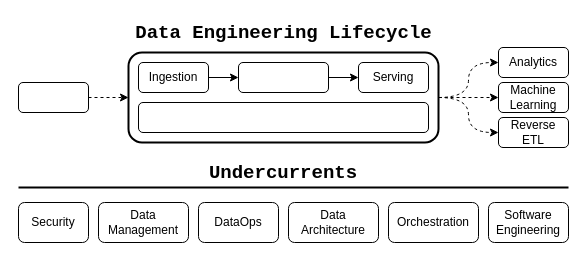
The diagram is 587 pixels wide and 260 high, and some of its shapes have lost their labels. Each missing label, with the centre of its shape:
"Generation" belongs at pixel 53 97.
"Storage" belongs at pixel 283 117.
"Transformation" belongs at pixel 283 77.
